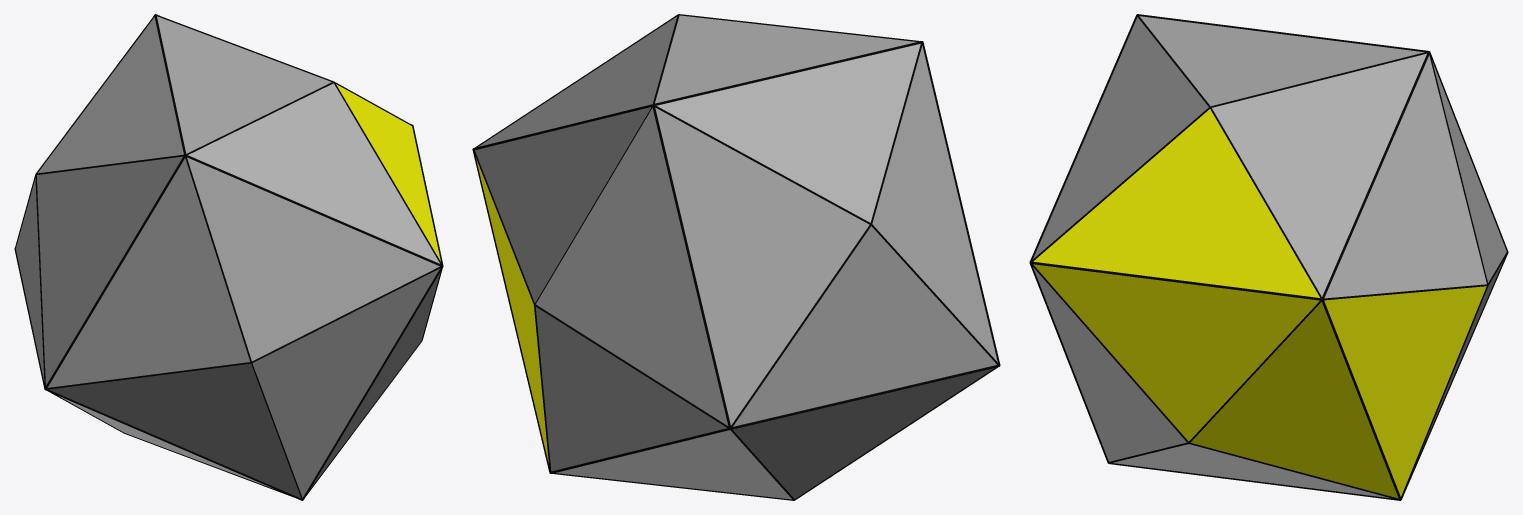
Rendered from TetrakisHexahedron_5.glb.
The picture shows the model from 3 angles, left to right: view 1: azimuth 30°, elevation 25°; view 2: azimuth 150°, elevation 25°; view 3: azimuth 270°, elevation 25°; orthographic projection. The views are drawn at different scales.
Bounding box in the file's own units: 3.48 × 3.02 × 3.17.
